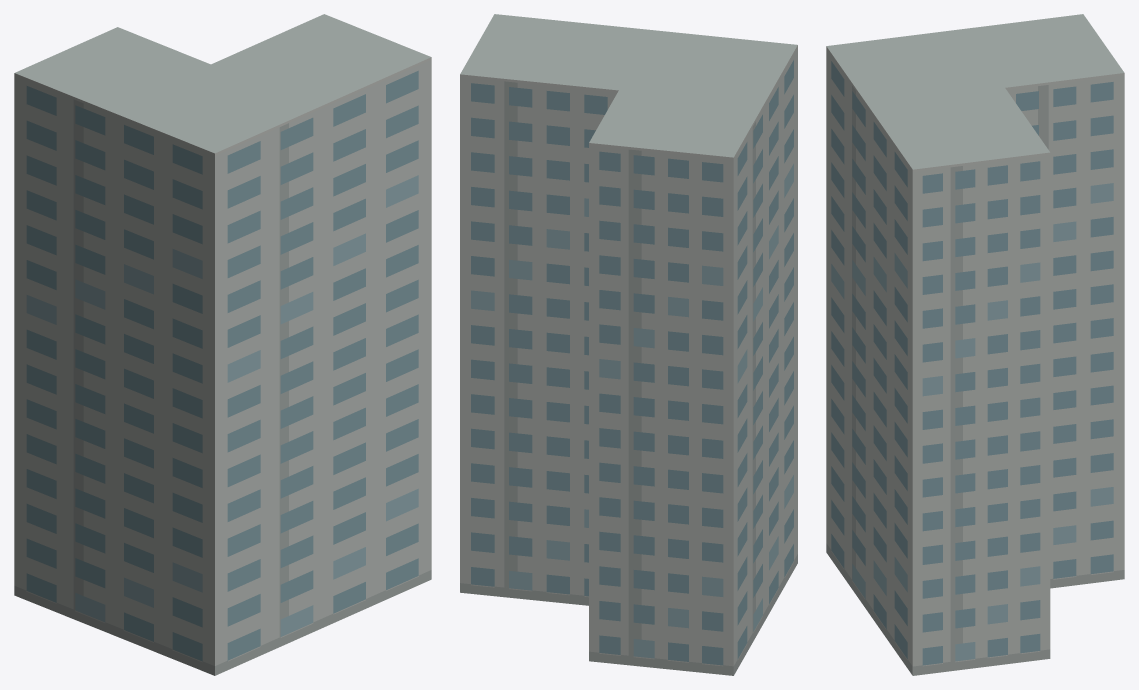
Rendered from residential-95db3684-5f5f-4442-bad2-fa9d5e72be9d.glb.
The picture shows the model from 3 angles, left to right: view 1: azimuth 30°, elevation 25°; view 2: azimuth 150°, elevation 25°; view 3: azimuth 270°, elevation 25°; orthographic projection. The views are drawn at different scales.
Parts seen in each view (by area): view 1: residential-95db3684-5f5f-4442-bad2-fa9d5e72be9d.tmp; view 2: residential-95db3684-5f5f-4442-bad2-fa9d5e72be9d.tmp; view 3: residential-95db3684-5f5f-4442-bad2-fa9d5e72be9d.tmp.
Boxes of the visible parts, <box> form: residential-95db3684-5f5f-4442-bad2-fa9d5e72be9d.tmp: <box>14,14,431,675</box>; residential-95db3684-5f5f-4442-bad2-fa9d5e72be9d.tmp: <box>460,14,797,675</box>; residential-95db3684-5f5f-4442-bad2-fa9d5e72be9d.tmp: <box>826,14,1124,675</box>.
Size of the model in its own units: 32.97 by 50 by 26.71.
